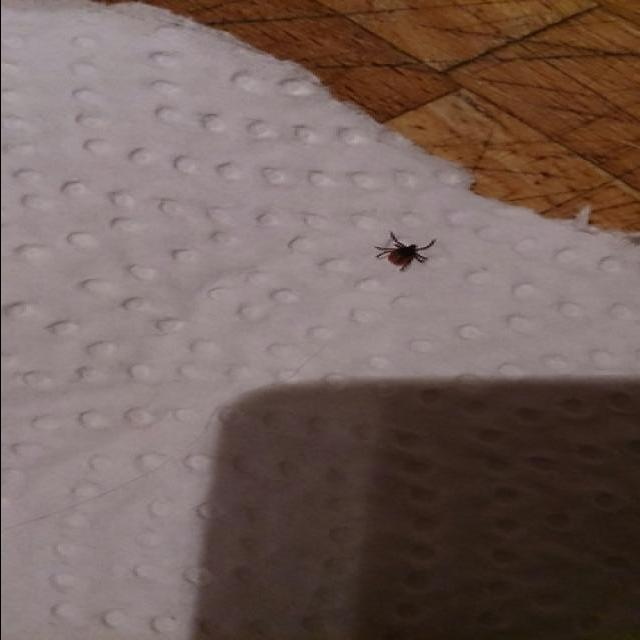Ixodes Ricinus-F: (371, 230, 435, 273)
